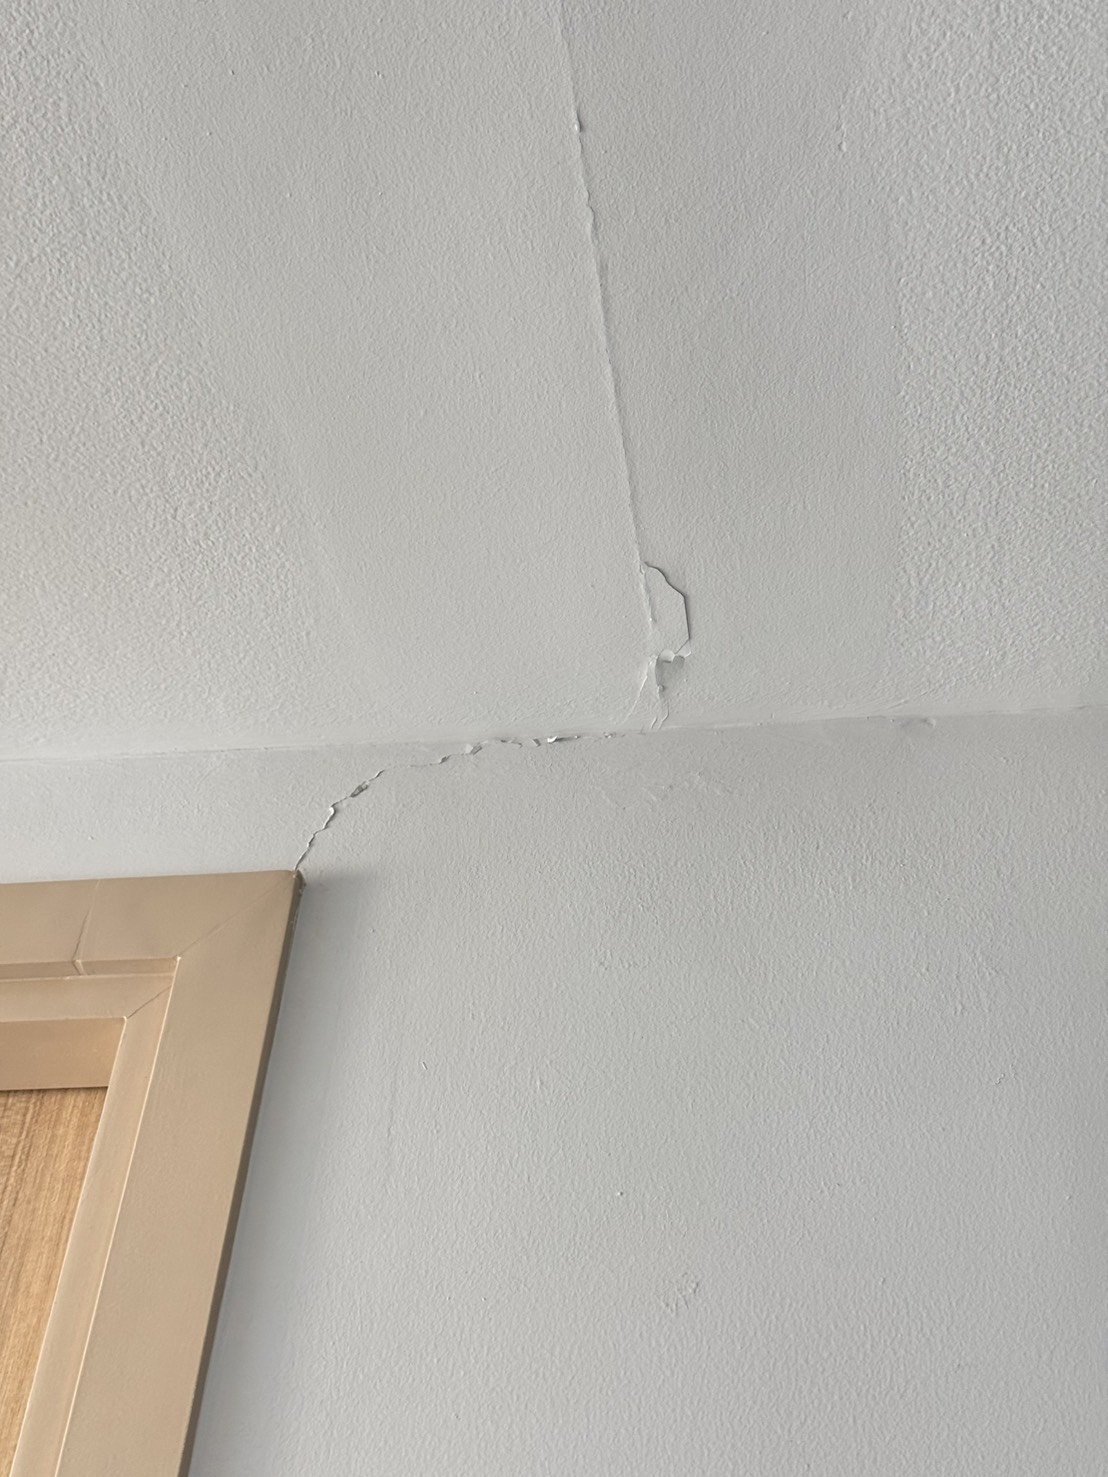Low: (287, 549, 759, 880)
